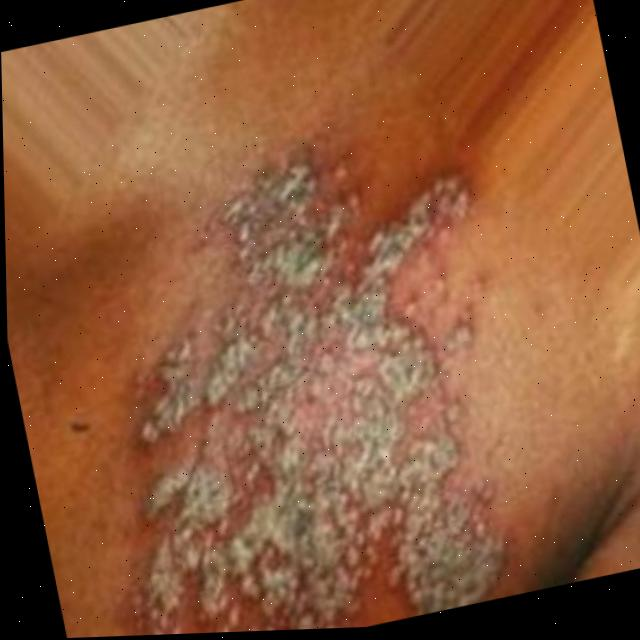Shingles: (75, 112, 548, 637)
